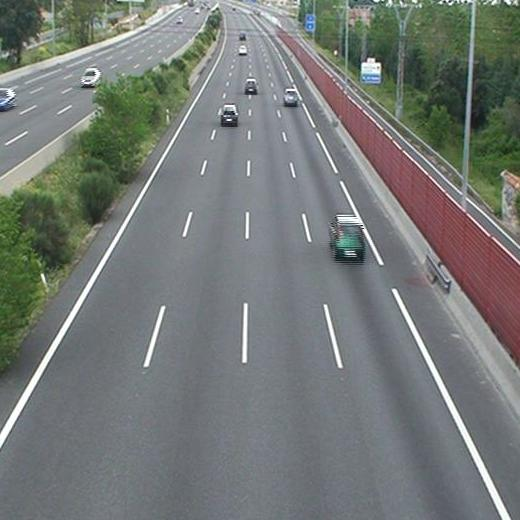car: (330, 216, 364, 258), (221, 104, 238, 124), (283, 90, 297, 105), (245, 79, 258, 92), (239, 45, 247, 53)
van: (237, 31, 246, 40)
